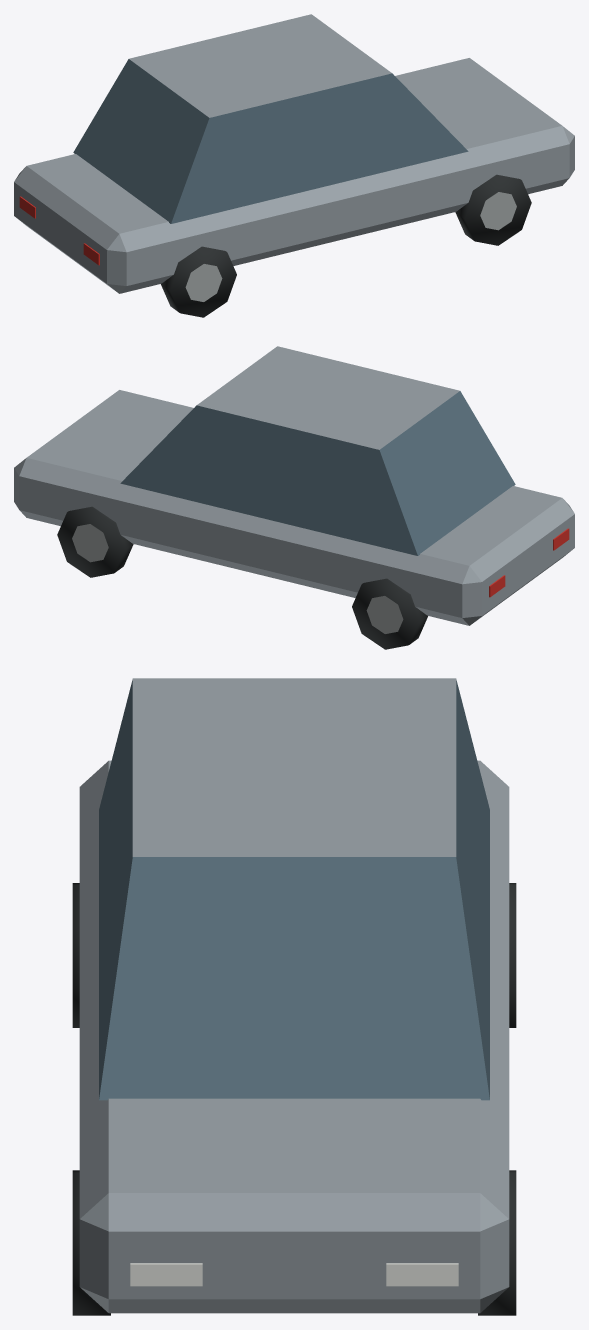
File: SM_MPR3_Car_1_LOD2.fbx
The picture shows the model from 3 angles, top to bottom: view 1: azimuth 30°, elevation 25°; view 2: azimuth 150°, elevation 25°; view 3: azimuth 270°, elevation 25°; orthographic projection. The views are drawn at different scales.
Parts seen in each view (by area): view 1: SM_MPR3_Car_1_LOD2; view 2: SM_MPR3_Car_1_LOD2; view 3: SM_MPR3_Car_1_LOD2.
Boxes of the visible parts, left/top/right/bottom form: SM_MPR3_Car_1_LOD2: left=14, top=14, right=574, bottom=317; SM_MPR3_Car_1_LOD2: left=14, top=346, right=574, bottom=649; SM_MPR3_Car_1_LOD2: left=72, top=678, right=516, bottom=1315.
Bounding box in the file's own units: 450 × 185 × 168.
